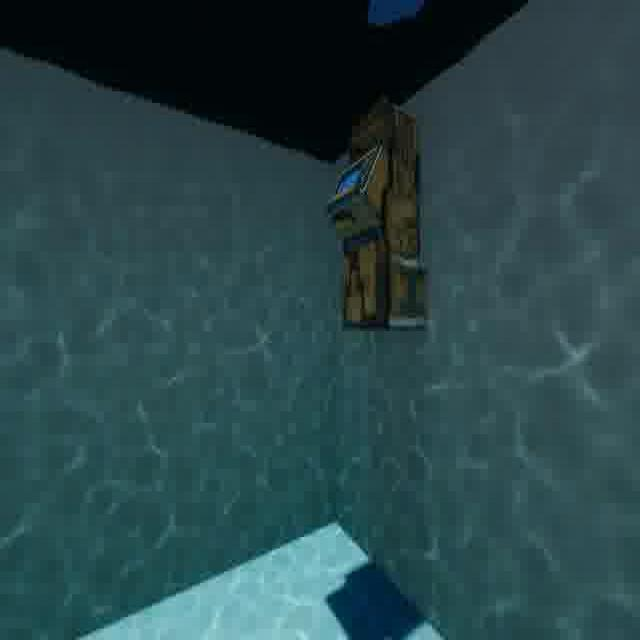Control Panel: (321, 84, 435, 340)
